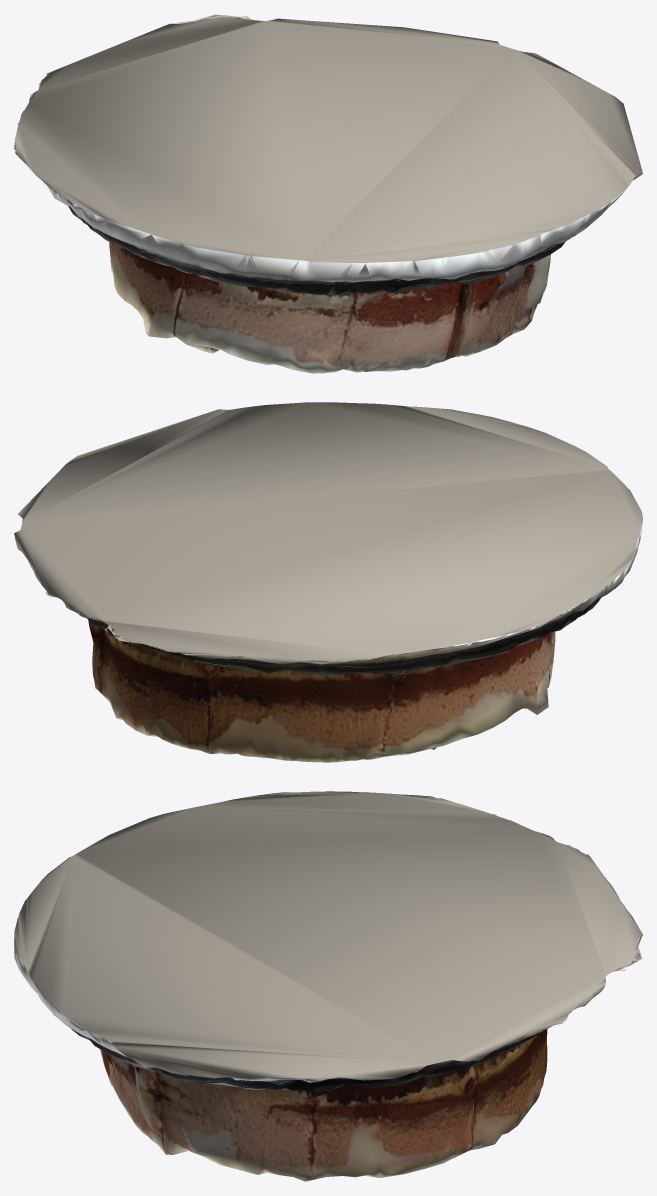
File: cake_5580.obj
The picture shows the model from 3 angles, top to bottom: view 1: azimuth 30°, elevation 25°; view 2: azimuth 150°, elevation 25°; view 3: azimuth 270°, elevation 25°; orthographic projection. The views are drawn at different scales.
Bounding box in the file's own units: 0.1761 × 0.0562 × 0.1767.
Materials: 1 (1 with a texture image).
